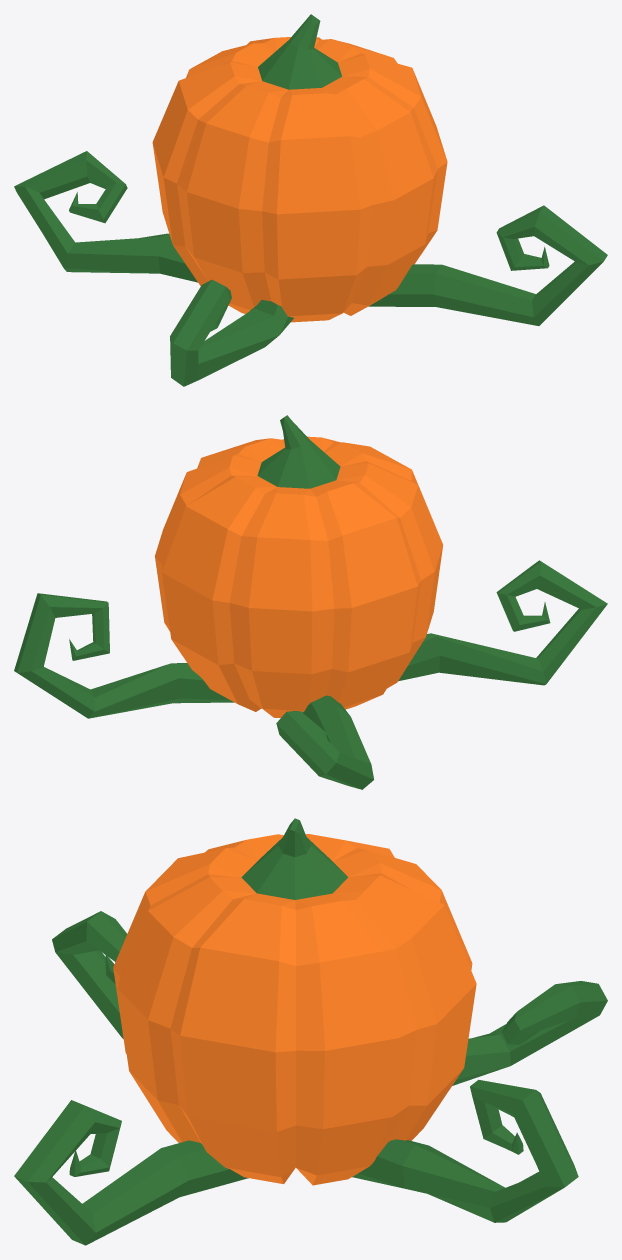
File: pumkin-leaves.glb
3 renders of one model, top to bottom at view 1: azimuth 30°, elevation 25°; view 2: azimuth 150°, elevation 25°; view 3: azimuth 270°, elevation 25°, orthographic. The views are drawn at different scales.
Parts seen in each view (by area): view 1: pumkin-leaves; view 2: pumkin-leaves; view 3: pumkin-leaves.
Part boxes in pixels (x1,y1,x2,y2): pumkin-leaves: (14, 14, 607, 386); pumkin-leaves: (14, 415, 607, 789); pumkin-leaves: (14, 818, 607, 1245).
Bounding box in the file's own units: 1.18 × 0.7659 × 1.19.
Materials: 1 (1 with a texture image).
